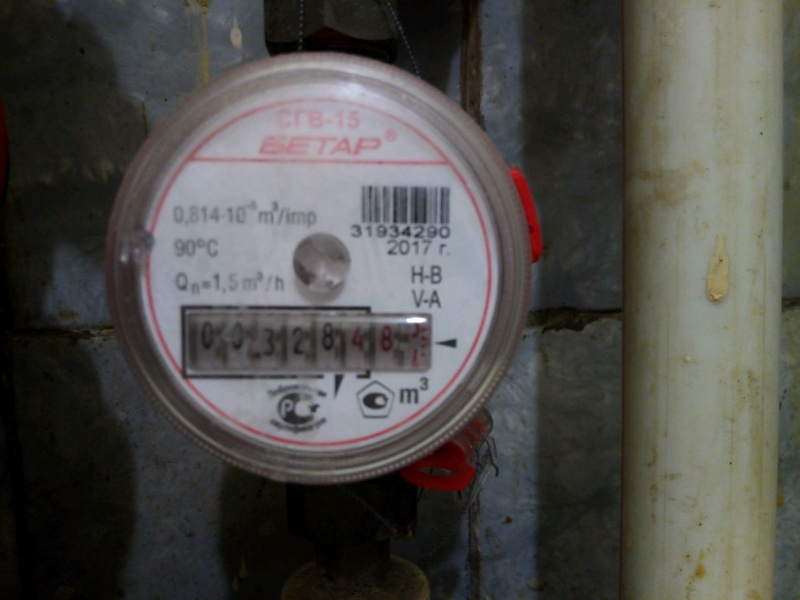meter: (179, 314, 427, 371)
